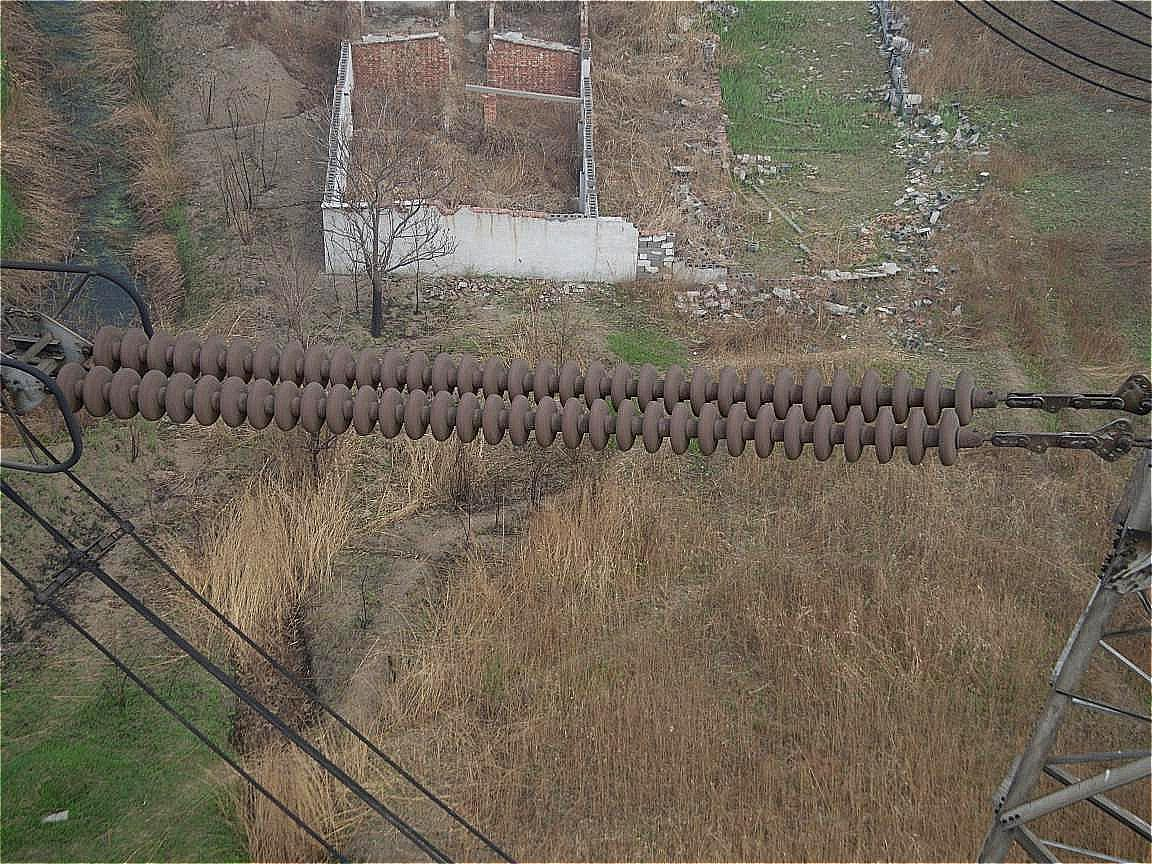insultor1: (58, 325, 979, 466)
